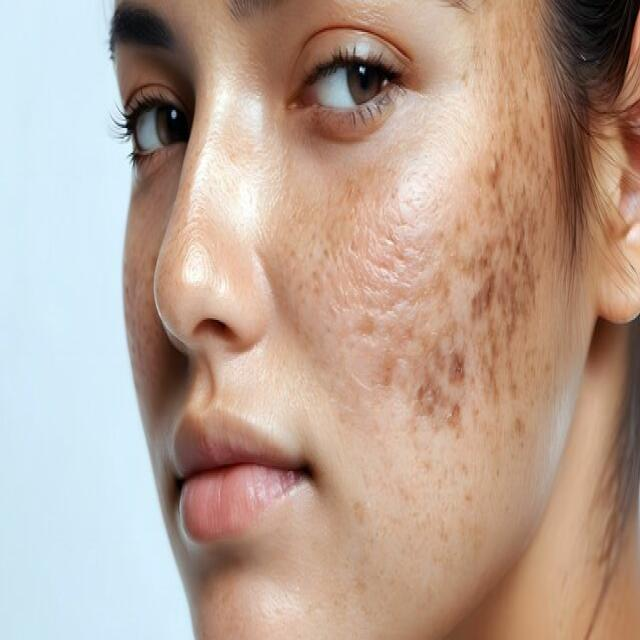pigmentation: (404, 153, 544, 442)
